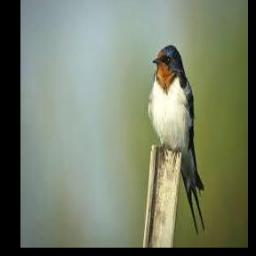Swallow: (148, 46, 206, 235)
